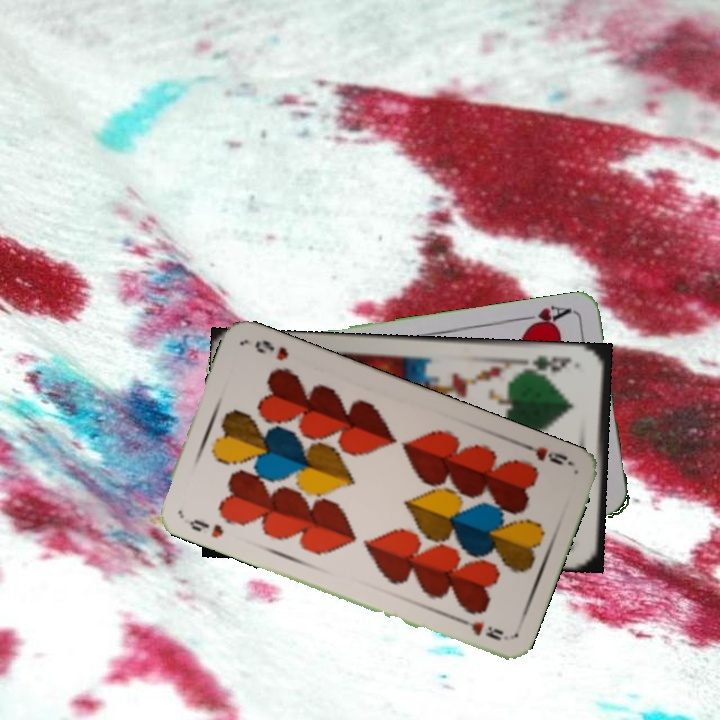GK: (525, 352, 575, 376)
H9: (518, 439, 575, 468), (185, 515, 227, 541)
HA: (516, 302, 575, 334)
